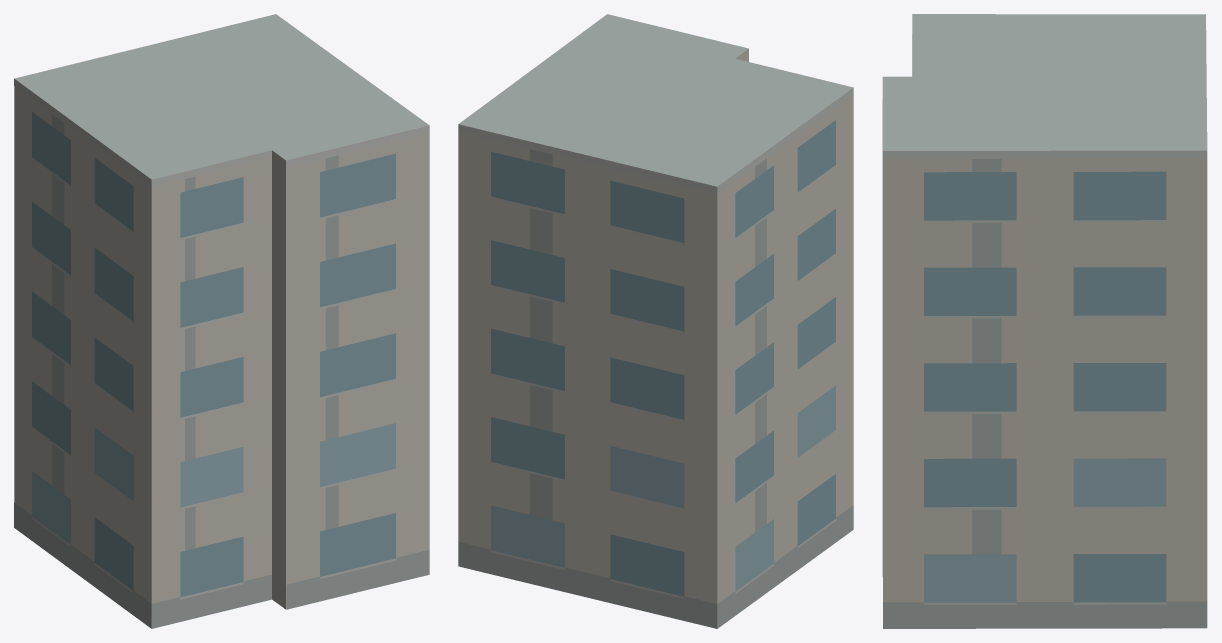
File: survey-upis-32725780.glb
3 views of the same model, side by side, from view 1: azimuth 30°, elevation 25°; view 2: azimuth 150°, elevation 25°; view 3: azimuth 270°, elevation 25° (orthographic). The views are drawn at different scales.
Visible parts, largest first — view 1: survey-upis-32725780.tmp; view 2: survey-upis-32725780.tmp; view 3: survey-upis-32725780.tmp.
Part boxes in pixels (x1,y1,x2,y2): survey-upis-32725780.tmp: (14, 14, 429, 628); survey-upis-32725780.tmp: (458, 14, 853, 628); survey-upis-32725780.tmp: (882, 14, 1207, 628).
Size of the model in its own units: 8.91 by 14.45 by 8.92.
